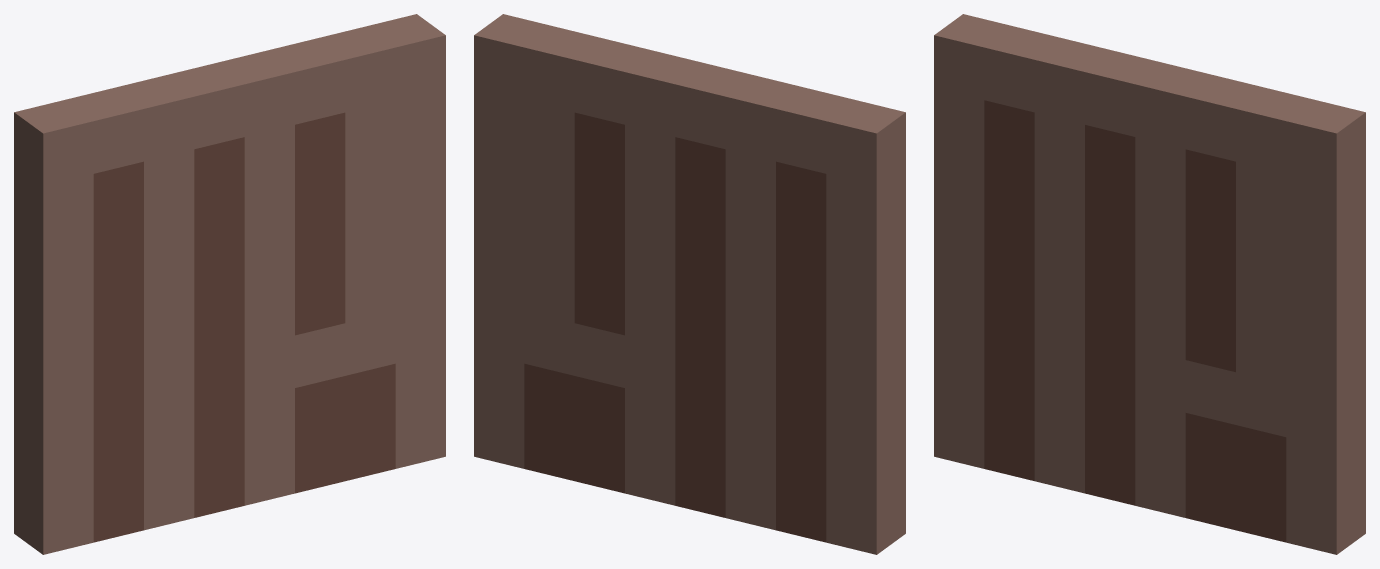
Rendered from _Pear Door Top.glb.
3 renders of one model, left to right at view 1: azimuth 30°, elevation 25°; view 2: azimuth 150°, elevation 25°; view 3: azimuth 330°, elevation 25°, orthographic.
Visible parts, largest first — view 1: generated(Clone); view 2: generated(Clone); view 3: generated(Clone).
Boxes of the visible parts, x1,y1,x2,y2 form: generated(Clone): (14,14,445,554); generated(Clone): (474,14,905,554); generated(Clone): (934,14,1365,554).
Bounding box in the file's own units: 8 × 8 × 1.
1 material, 1 textured.
